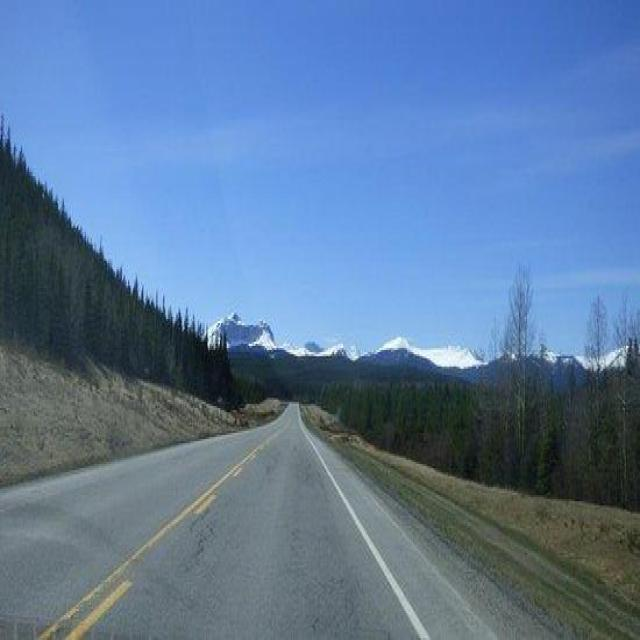parterre: (498, 373, 640, 501)
